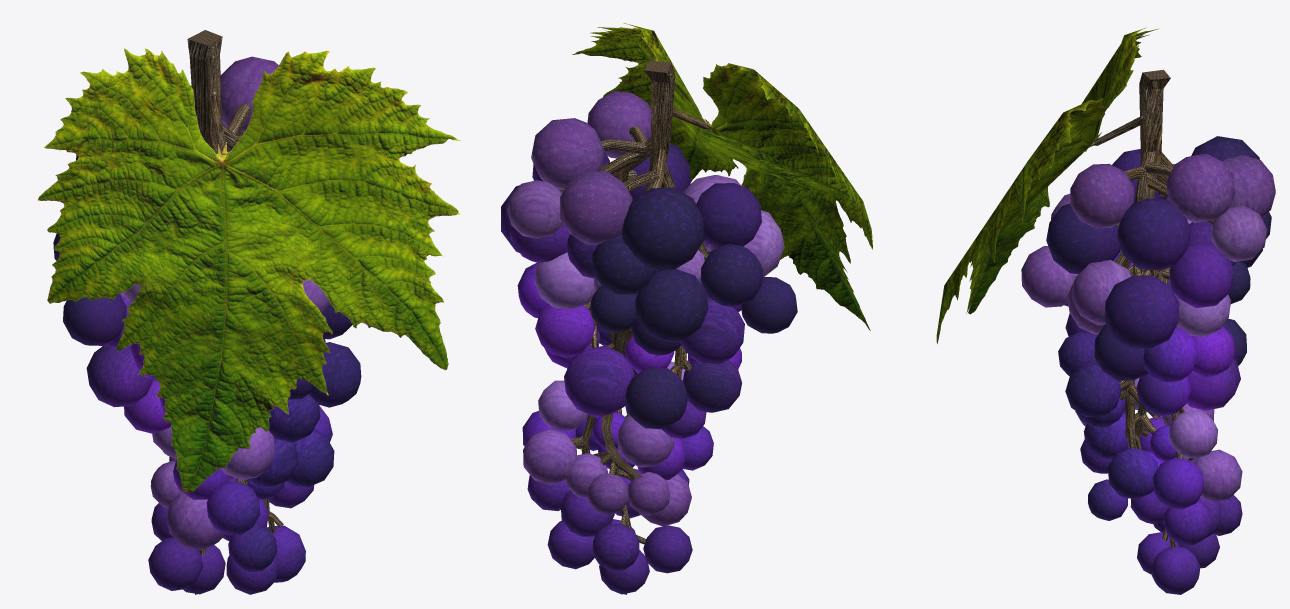
3 views of the same model, side by side, from view 1: azimuth 30°, elevation 25°; view 2: azimuth 150°, elevation 25°; view 3: azimuth 270°, elevation 25° (orthographic). The views are drawn at different scales.
Visible parts, largest first — view 1: group_4, RAMO (×21); view 2: RAMO (×46), group_4; view 3: RAMO (×42), group_4.
Boxes of the visible parts, x1,y1,x2,y2 form: group_4: (37, 48, 460, 493); RAMO (×21): (63, 37, 361, 594); RAMO (×46): (507, 63, 797, 594); group_4: (572, 23, 872, 330); RAMO (×42): (1021, 72, 1275, 594); group_4: (936, 27, 1159, 343).
Size of the model in its own units: 5.24 by 4.46 by 7.36.
6 materials, 6 textured.
